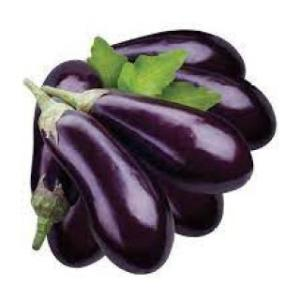eggplant: (42, 103, 174, 274), (83, 88, 255, 194), (107, 68, 278, 148), (33, 59, 103, 249)
